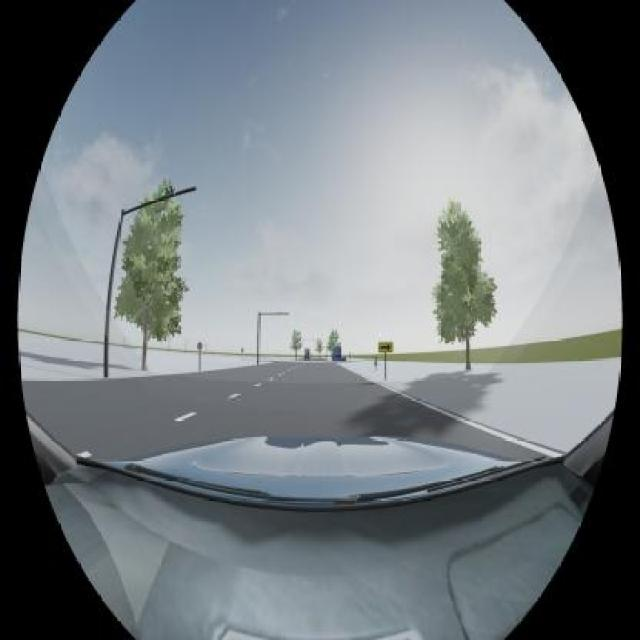forb_speed_over_30: (198, 342, 202, 350)
